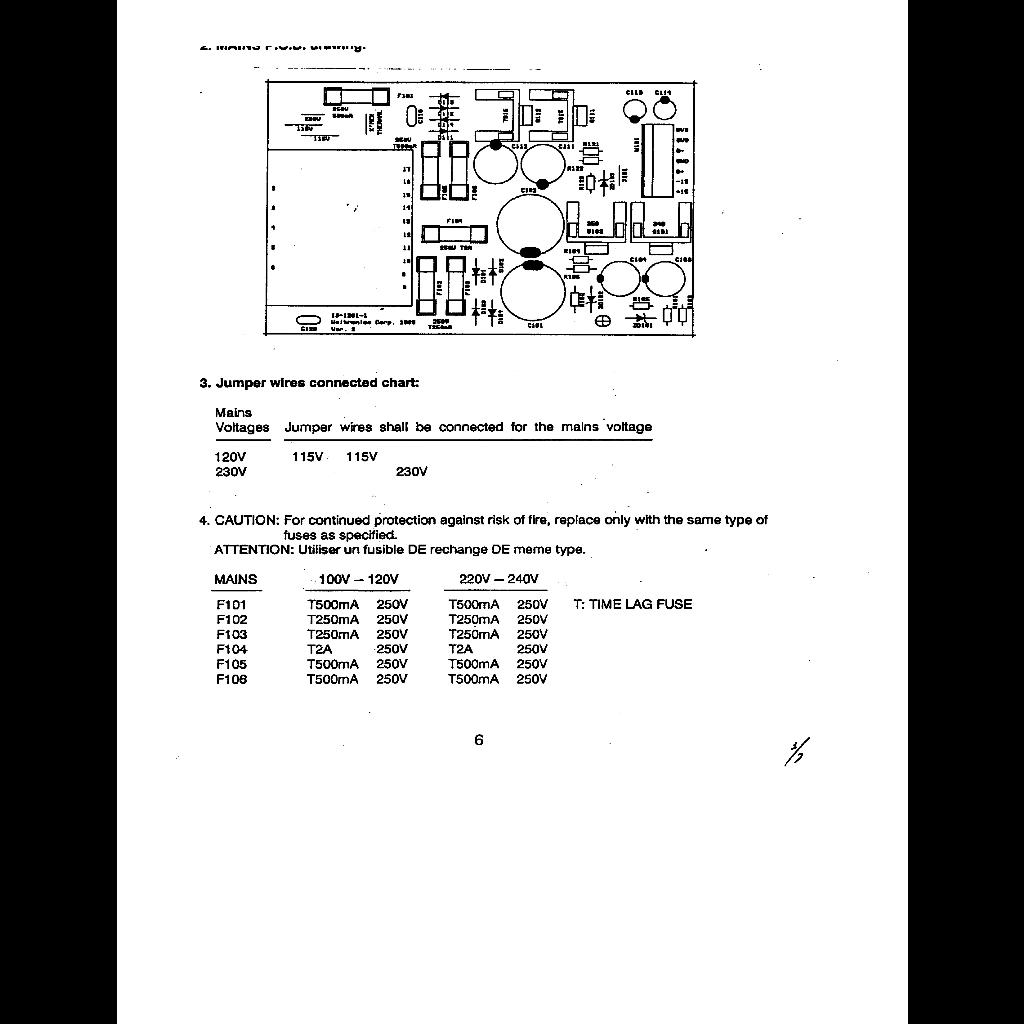Board: (258, 73, 700, 341)
Table: (208, 567, 692, 697)
